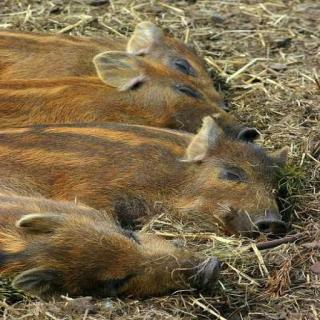Pig: (8, 110, 291, 234), (0, 1, 225, 100), (23, 196, 207, 316), (3, 58, 265, 141)
